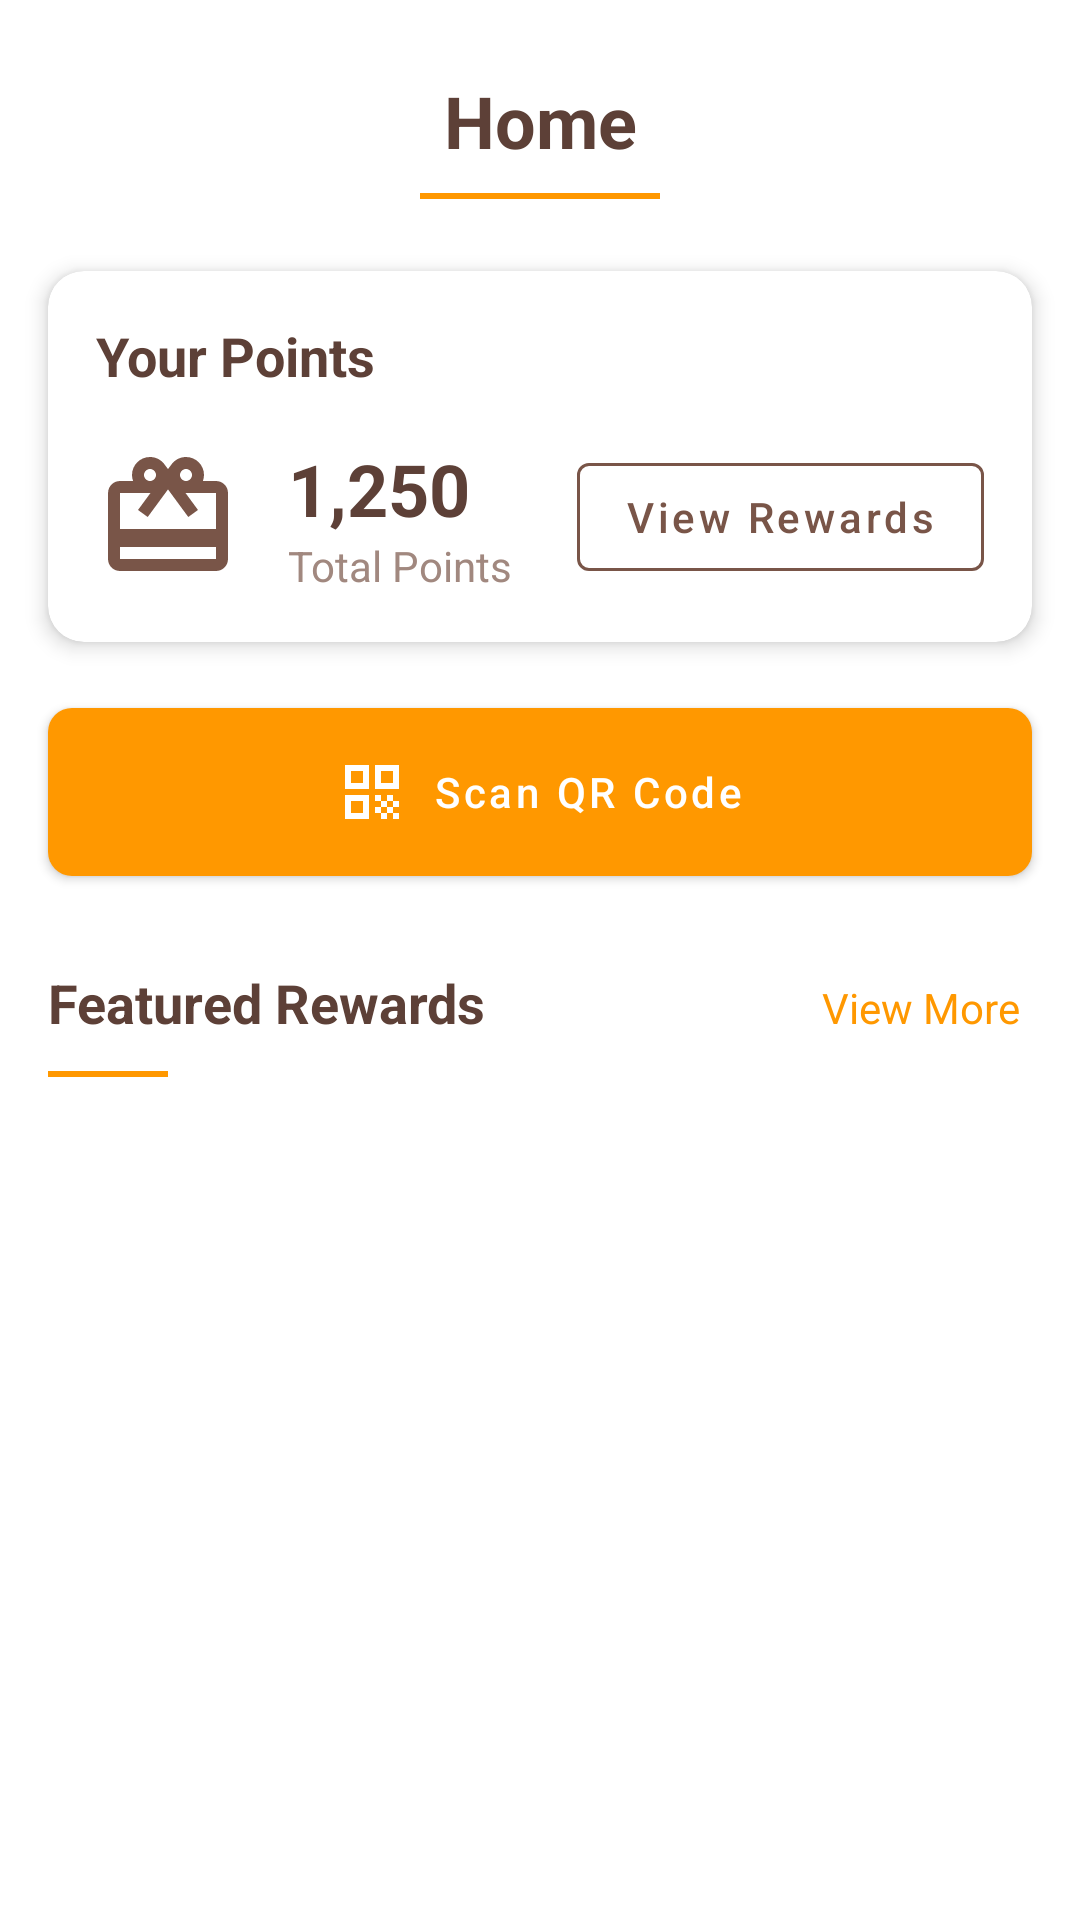

Point at icon controls on the screen. Image size 1080 x 1920, points as [x,y].
reward: [168,514]
